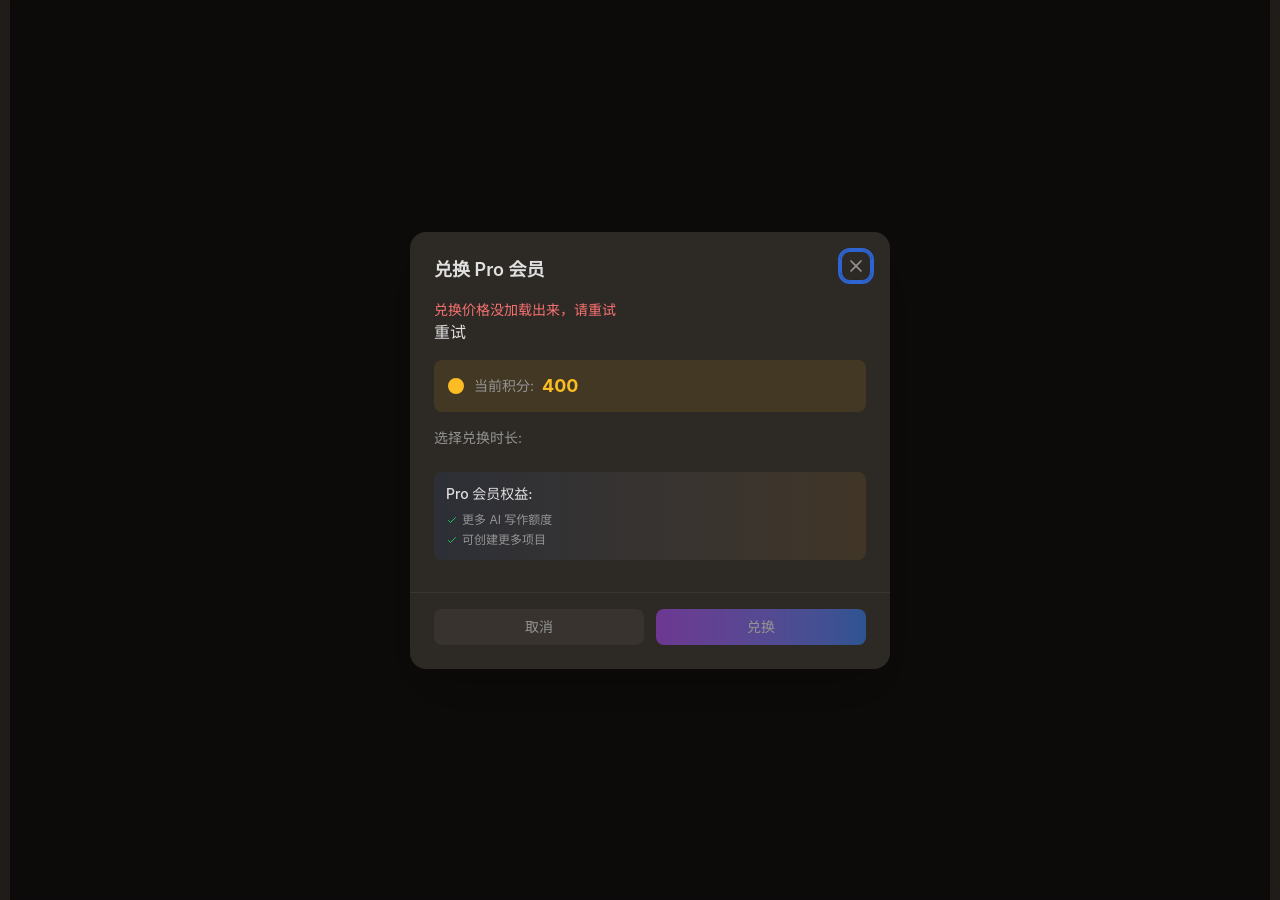
RedeemProModal › treats an empty pricing response as a load failure with author-facing copy
Expected: the message reads "兑换价格没加载出来，请重试", x1=434 y1=300 x2=616 y2=318
Expected: the text "100 积分" is not shown
Click the button "重试": (450, 332) x1=434 y1=320 x2=466 y2=344
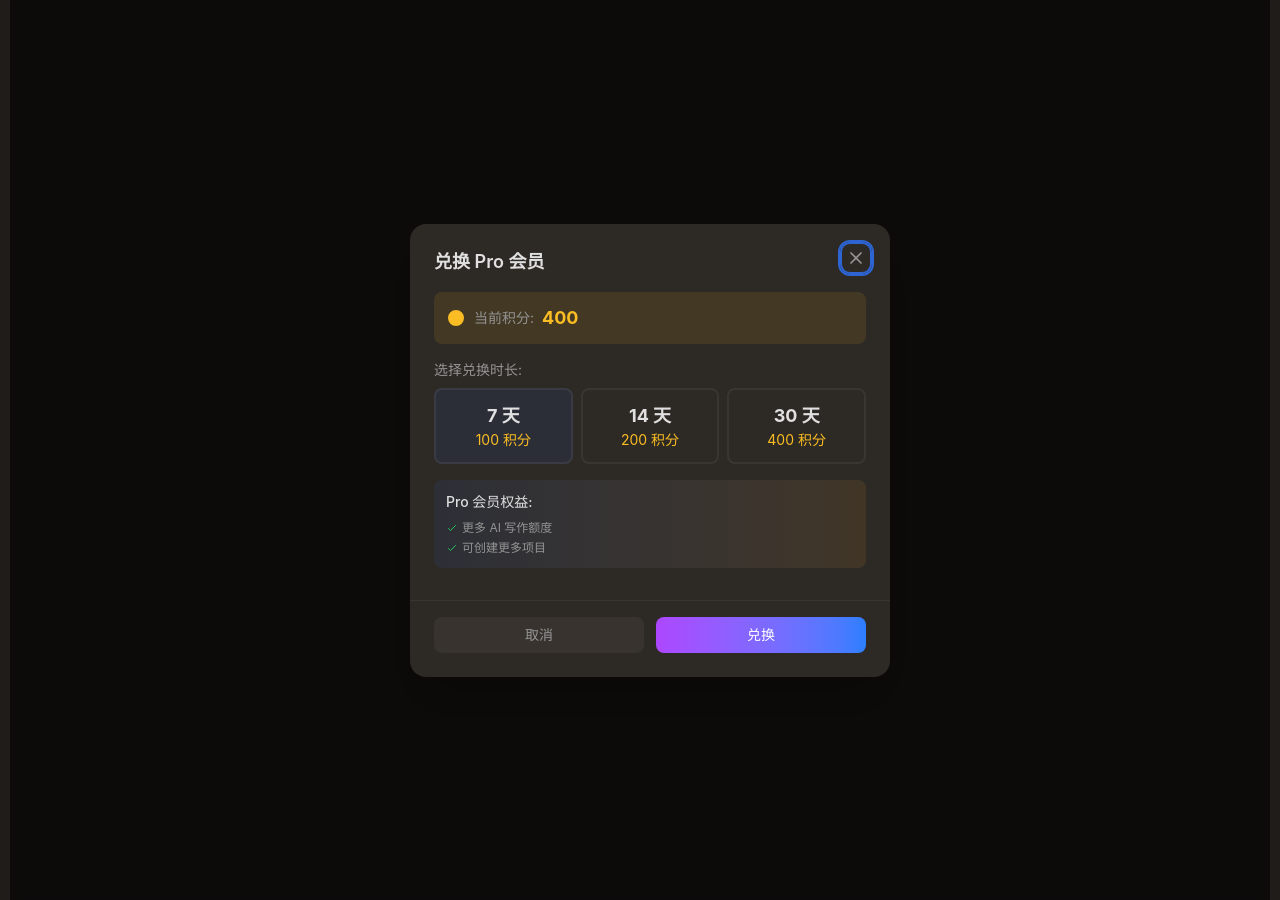
Now the text "100 积分" is shown, box x1=476 y1=430 x2=531 y2=448
Now the message "兑换价格没加载出来，请重试" is gone
